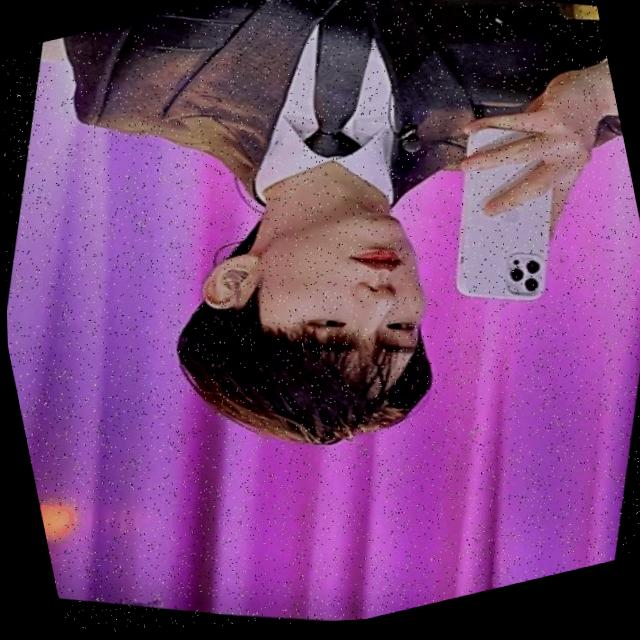Smartphone: (448, 110, 563, 317)
